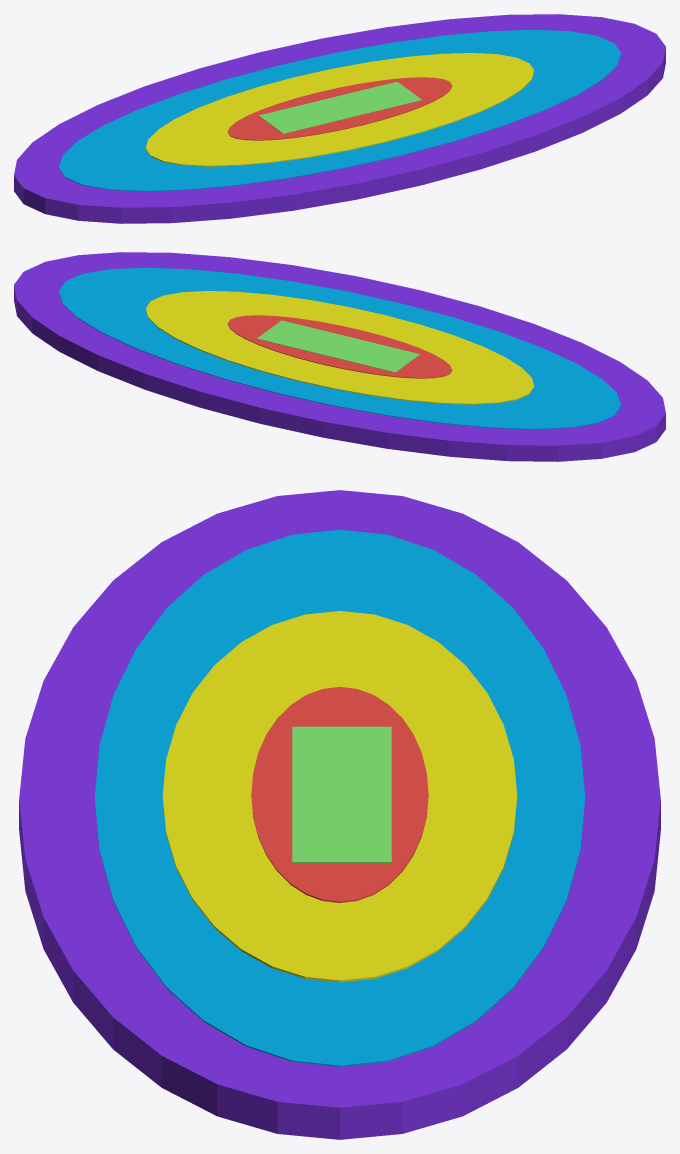
The picture shows the model from 3 angles, top to bottom: view 1: azimuth 30°, elevation 25°; view 2: azimuth 150°, elevation 25°; view 3: azimuth 270°, elevation 25°; orthographic projection. The views are drawn at different scales.
Visible parts, largest first — view 1: 圓柱體, 圓柱體.001, 圓柱體.002, 圓柱體.003, 立方體; view 2: 圓柱體, 圓柱體.001, 圓柱體.002, 圓柱體.003, 立方體; view 3: 圓柱體, 圓柱體.001, 圓柱體.002, 圓柱體.003, 立方體.
Part boxes in pixels (x1=…): 圓柱體: x1=14, y1=14, x2=665, y2=223; 圓柱體.001: x1=58, y1=29, x2=621, y2=191; 圓柱體.002: x1=145, y1=53, x2=534, y2=166; 圓柱體.003: x1=227, y1=77, x2=452, y2=140; 立方體: x1=258, y1=81, x2=421, y2=133; 圓柱體: x1=14, y1=252, x2=665, y2=461; 圓柱體.001: x1=58, y1=267, x2=621, y2=429; 圓柱體.002: x1=145, y1=291, x2=534, y2=404; 圓柱體.003: x1=227, y1=315, x2=452, y2=378; 立方體: x1=257, y1=320, x2=419, y2=372; 圓柱體: x1=19, y1=490, x2=660, y2=1139; 圓柱體.001: x1=94, y1=529, x2=585, y2=1066; 圓柱體.002: x1=162, y1=611, x2=517, y2=982; 圓柱體.003: x1=251, y1=687, x2=428, y2=902; 立方體: x1=292, y1=726, x2=391, y2=862.
Size of the model in its own units: 1649 by 50.88 by 724.
